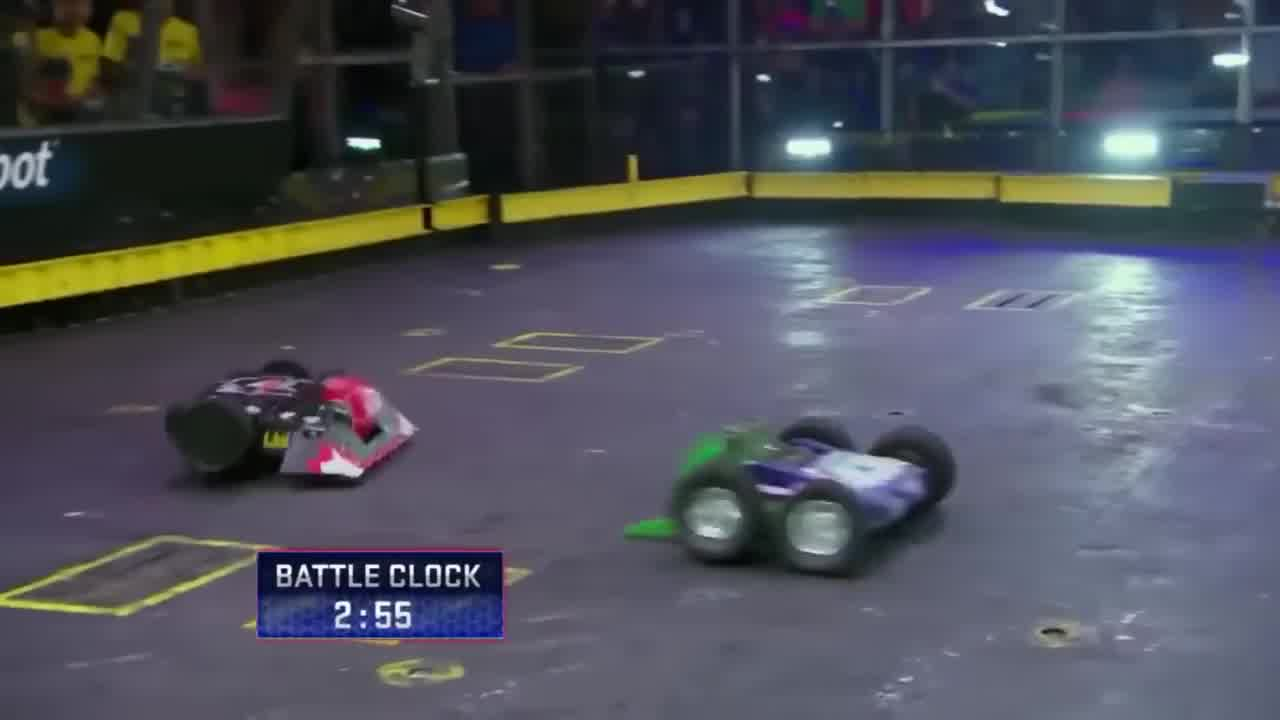combatbot: (675, 414, 962, 577), (161, 359, 420, 492)
